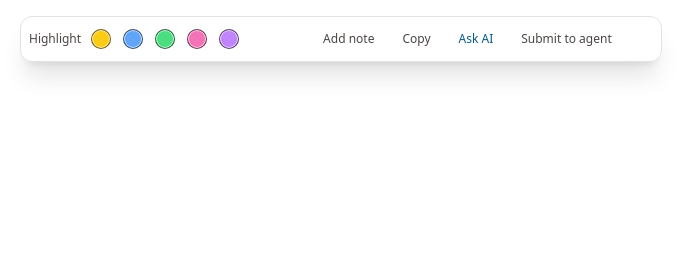
note composer: selected passage › sits under the selection actions with only the anchored passage, in the reader font
Click the button "Add note" at (349, 39), box x1=311 y1=25 x2=386 y2=53
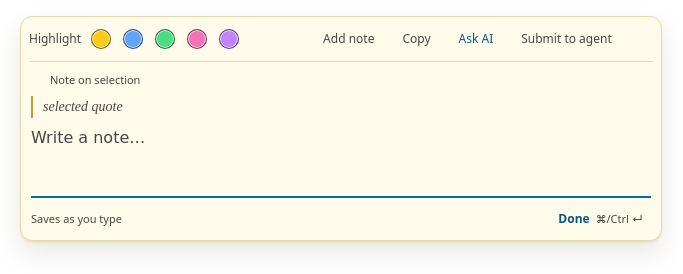
Expected: the text with test id "selection-note-quote" reads "selected quote", x1=43 y1=99 x2=123 y2=114
Expected: the element with test id "selection-note-composer" shows "Note on selection", x1=50 y1=72 x2=140 y2=87
